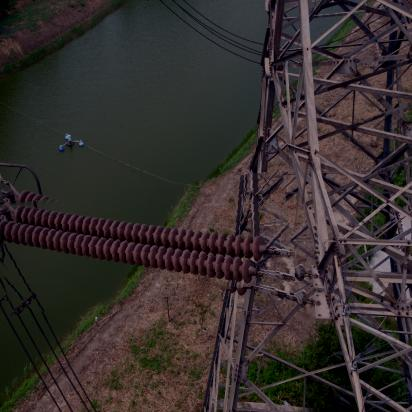insulator: (1, 179, 293, 308)
